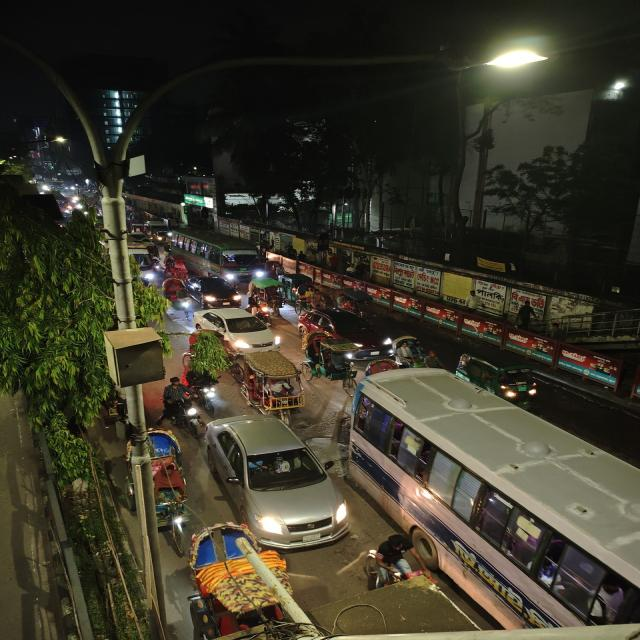bus: (341, 360, 640, 628), (172, 229, 266, 279)
car: (200, 412, 348, 550), (300, 306, 396, 356), (195, 306, 282, 352), (192, 275, 242, 307)
cng: (456, 346, 541, 401)
motorcycle: (159, 376, 200, 424), (193, 368, 226, 408)
rickshaw: (235, 350, 308, 420), (160, 278, 195, 316), (293, 280, 328, 316)
